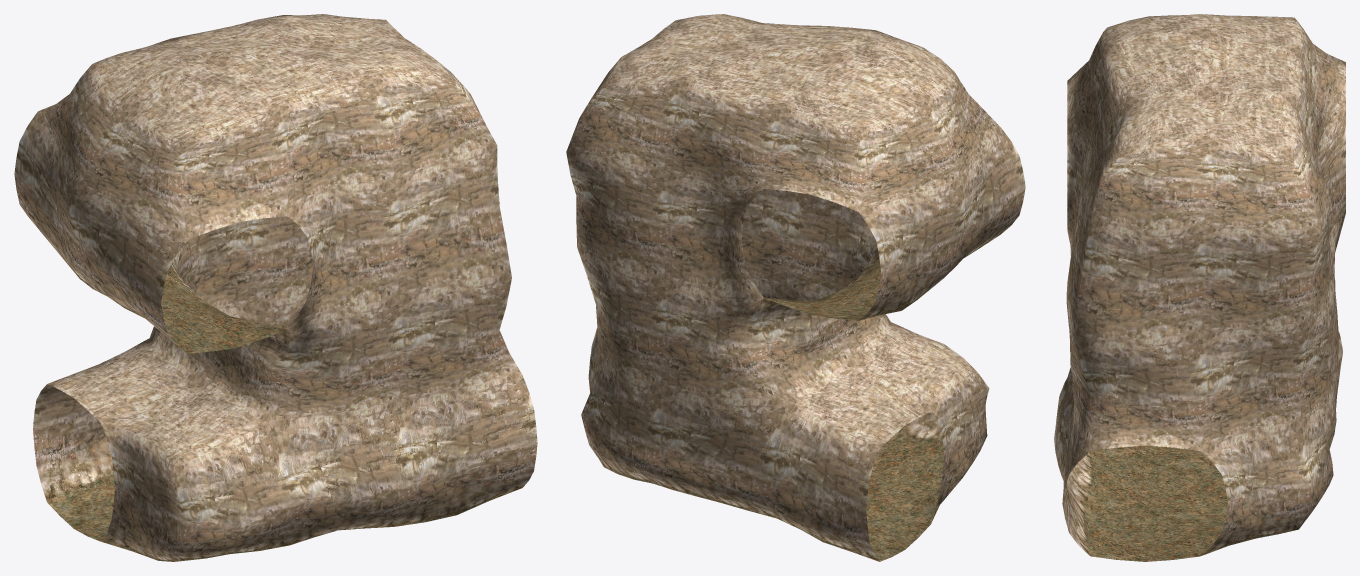
The model's file is thm_all_cave_s03_mirror_r16_mesh_r16.fbx.
3 renders of one model, left to right at view 1: azimuth 30°, elevation 25°; view 2: azimuth 150°, elevation 25°; view 3: azimuth 270°, elevation 25°, orthographic. The views are drawn at different scales.
Visible parts, largest first — view 1: mesh_node; view 2: mesh_node; view 3: mesh_node.
Part boxes in pixels (x1,y1,x2,y2): mesh_node: (14, 14, 537, 561); mesh_node: (566, 14, 1025, 561); mesh_node: (1054, 14, 1345, 561).
Bounding box in the file's own units: 27.39 × 31.62 × 19.23.
